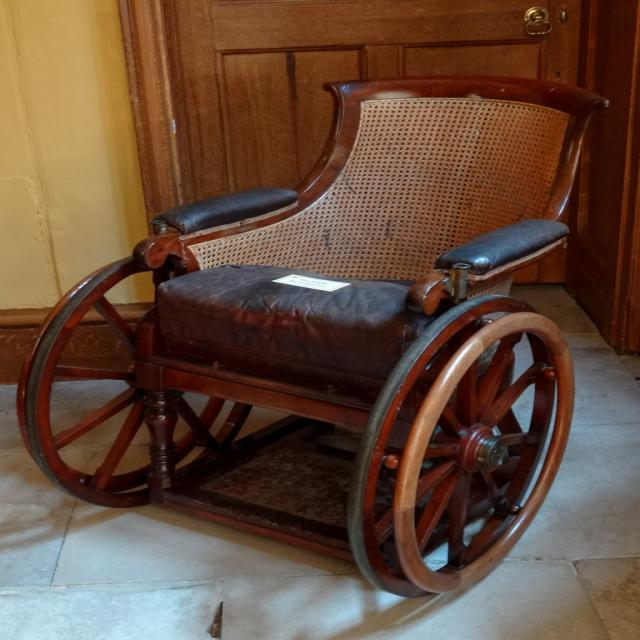wheelchairs: (21, 74, 605, 596)
